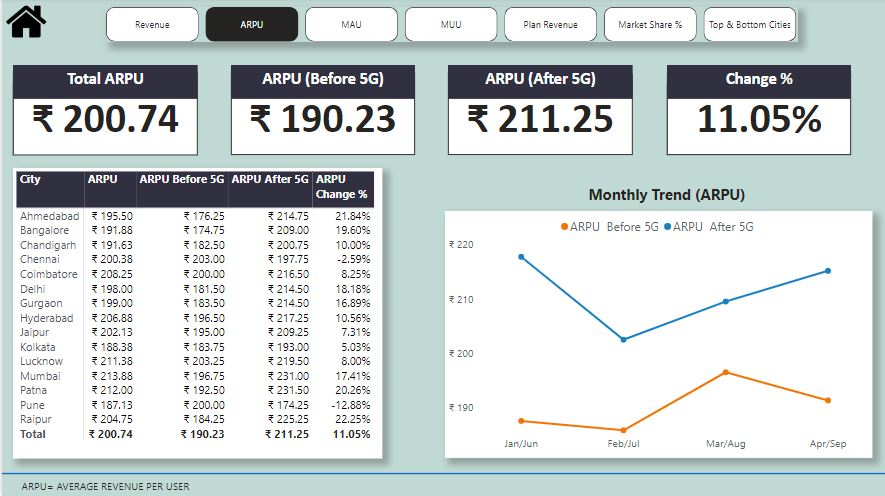

What the dashboard file says about the page in this screenshot:
{"tool":"powerbi","page":{"name":"ARPU","canvas":[1280,720],"ordinal":2},"visuals":[{"type":"card","fields":{"Values":["Key Measures.ARPU"]},"box":[15.9,108.4,267.5,118.6],"z":0},{"type":"pivotTable","fields":{"Rows":["dim_cities.city_name"],"Values":["Key Measures.ARPU","Key Measures.ARPU  Before 5G","Key Measures.ARPU  After 5G","Key Measures.ARPU Change %"]},"box":[15.6,245.2,534.3,419.5],"z":1000},{"type":"lineChart","fields":{"Category":["dim_date.Time Period Lable"],"Y":["Key Measures.ARPU  Before 5G","Key Measures.ARPU  After 5G"]},"box":[640.6,307.6,618,357.2],"z":2000},{"type":"card","fields":{"Values":["Key Measures.ARPU  After 5G"]},"box":[644.8,109.9,267.5,117.1],"z":3000},{"type":"card","fields":{"Values":["Key Measures.ARPU  Before 5G"]},"box":[331.1,109.9,266,117.1],"z":4000},{"type":"card","fields":{"Values":["Key Measures.ARPU Change %"]},"box":[961.4,109.9,266,117.1],"z":5000},{"type":"shape","box":[0,654.8,1279.8,65.2],"z":6000},{"type":"textbox","box":[0,690.2,299.1,29.8],"z":7000},{"type":"textbox","box":[15.9,96.9,267.5,49.2],"z":8000},{"type":"textbox","box":[331.1,96.9,266,49.2],"z":9000},{"type":"textbox","box":[644.8,96.9,267.5,49.2],"z":10000},{"type":"textbox","box":[961.4,96.9,266,49.2],"z":11000},{"type":"textbox","box":[779.3,264.6,364.3,43.4],"z":12000},{"type":"pageNavigator","title":"Revenue","box":[150.4,13,1000.5,50.6],"z":13000},{"type":"image","box":[0,0,69.4,68],"z":13001}]}

Visuals, with their boxes in screenshot pixels (x1, y1, x2, y2), scaled from the page's 1280x720 canvas onto the 885x496 screenshot:
card - Key Measures.ARPU: Rect(11, 75, 196, 156)
pivotTable - dim_cities.city_name x Key Measures.ARPU: Rect(11, 169, 380, 458)
lineChart - dim_date.Time Period Lable x Key Measures.ARPU  Before 5G: Rect(443, 212, 870, 458)
card - Key Measures.ARPU  After 5G: Rect(446, 76, 631, 156)
card - Key Measures.ARPU  Before 5G: Rect(229, 76, 413, 156)
card - Key Measures.ARPU Change %: Rect(665, 76, 849, 156)
shape: Rect(0, 451, 884, 495)
textbox: Rect(0, 475, 207, 495)
textbox: Rect(11, 67, 196, 101)
textbox: Rect(229, 67, 413, 101)
textbox: Rect(446, 67, 631, 101)
textbox: Rect(665, 67, 849, 101)
textbox: Rect(539, 182, 791, 212)
"Revenue" pageNavigator: Rect(104, 9, 796, 44)
image: Rect(0, 0, 48, 47)
